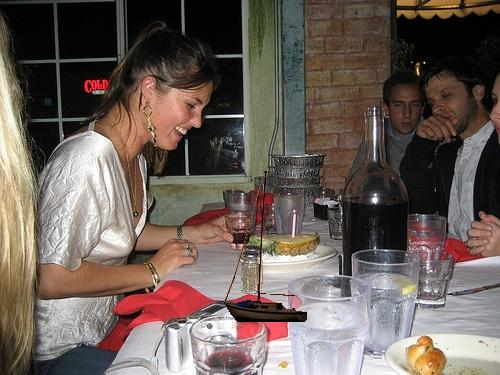tampered: (225, 172, 307, 322)
